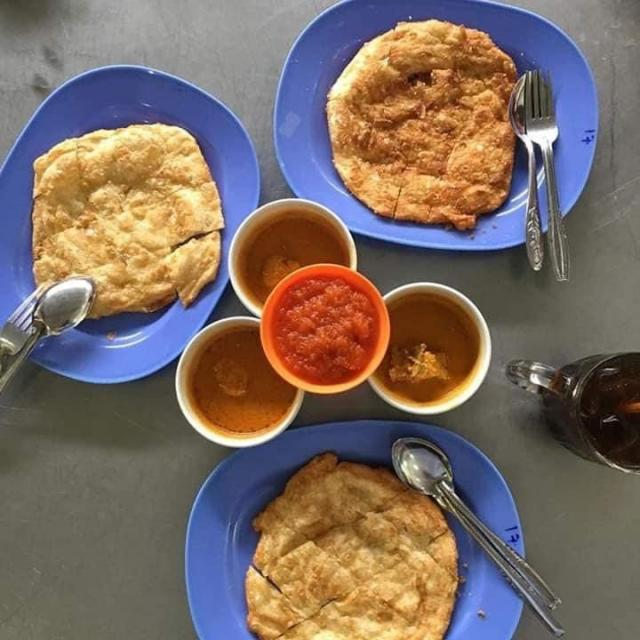Paratha: (343, 26, 525, 226), (268, 450, 458, 640), (41, 137, 212, 299)
